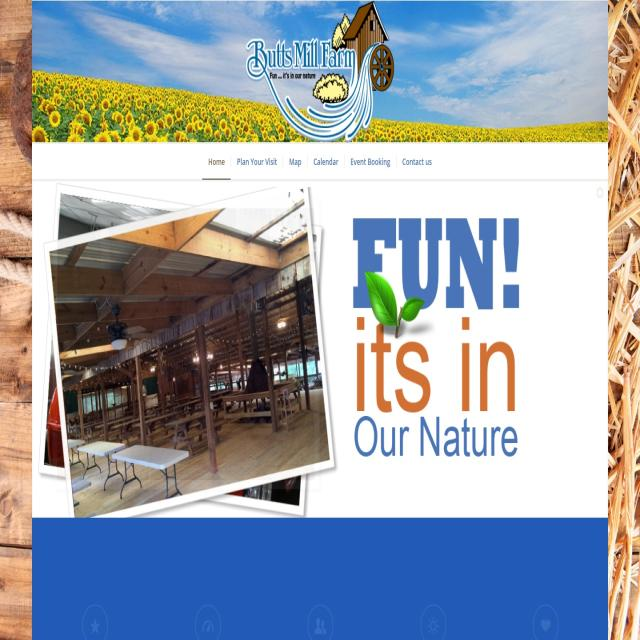button: (304, 599, 334, 640), (234, 149, 279, 176), (419, 600, 447, 640), (81, 604, 110, 640), (348, 154, 393, 177), (531, 604, 559, 640), (194, 605, 221, 640), (398, 154, 438, 176), (311, 152, 342, 175), (204, 147, 229, 175), (286, 151, 305, 174)
heading: (246, 34, 361, 83)
image: (0, 0, 640, 640), (53, 182, 334, 518), (32, 1, 608, 144), (245, 2, 397, 141)
text: (346, 215, 524, 470)
